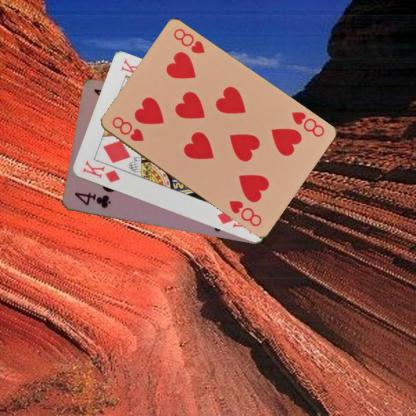4c: (71, 190, 112, 210)
8h: (288, 108, 325, 138), (109, 114, 145, 143)
Kd: (79, 158, 121, 184)
